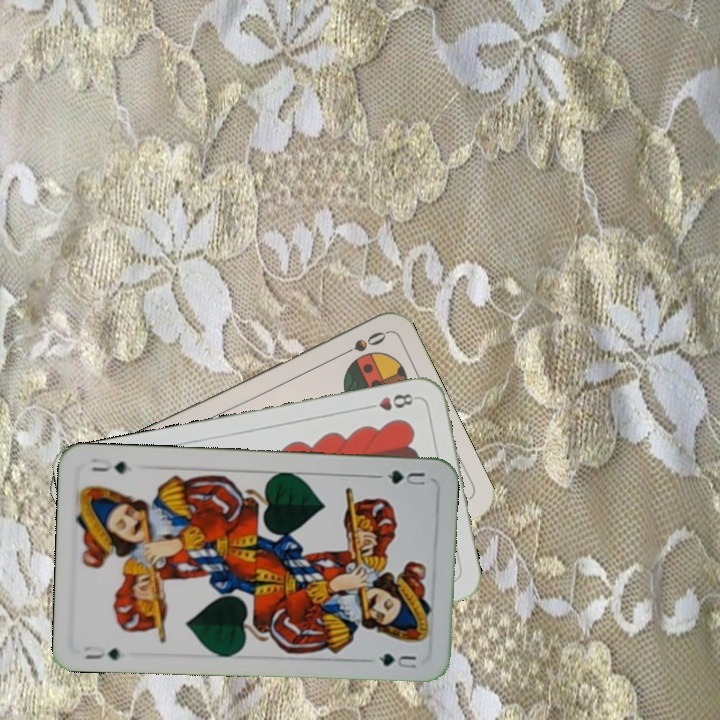GU: (383, 466, 429, 488), (80, 641, 123, 663)
H8: (361, 389, 420, 414)
SO: (334, 327, 389, 360)
